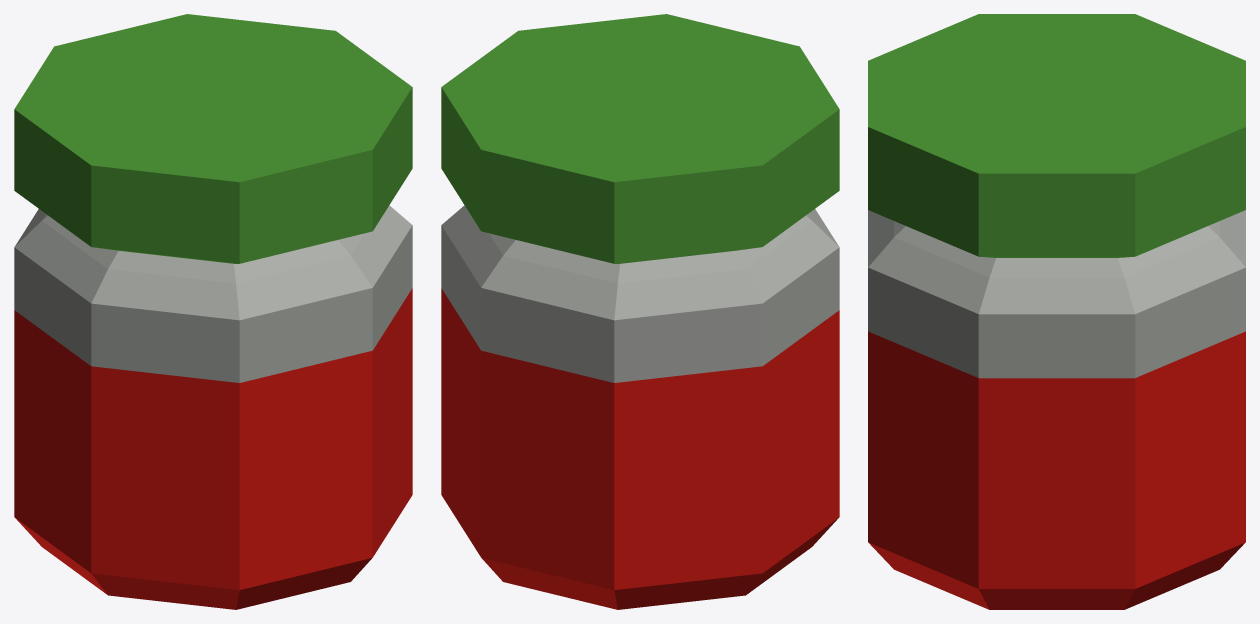
The model's file is SM_Cook_SpiceJar_01.glb.
The picture shows the model from 3 angles, left to right: view 1: azimuth 30°, elevation 25°; view 2: azimuth 150°, elevation 25°; view 3: azimuth 270°, elevation 25°; orthographic projection.
Visible parts, largest first — view 1: SM_Cook_SpiceJar_01; view 2: SM_Cook_SpiceJar_01; view 3: SM_Cook_SpiceJar_01.
Boxes of the visible parts, x1=… form: SM_Cook_SpiceJar_01: x1=14, y1=14, x2=412, y2=609; SM_Cook_SpiceJar_01: x1=441, y1=14, x2=839, y2=609; SM_Cook_SpiceJar_01: x1=868, y1=14, x2=1245, y2=609.
Size of the model in its own units: 0.0536 by 0.07 by 0.0536.
1 material, 1 textured.
